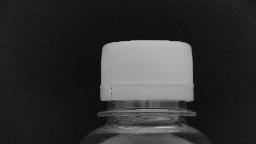Broken Ring: (104, 84, 118, 102)
Loose Cap: (92, 79, 204, 121)
